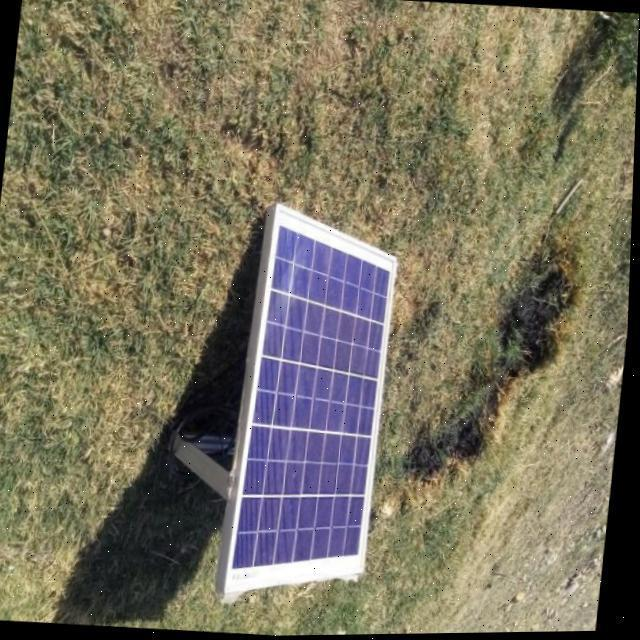Normal Solar Panel: (226, 200, 404, 603)
